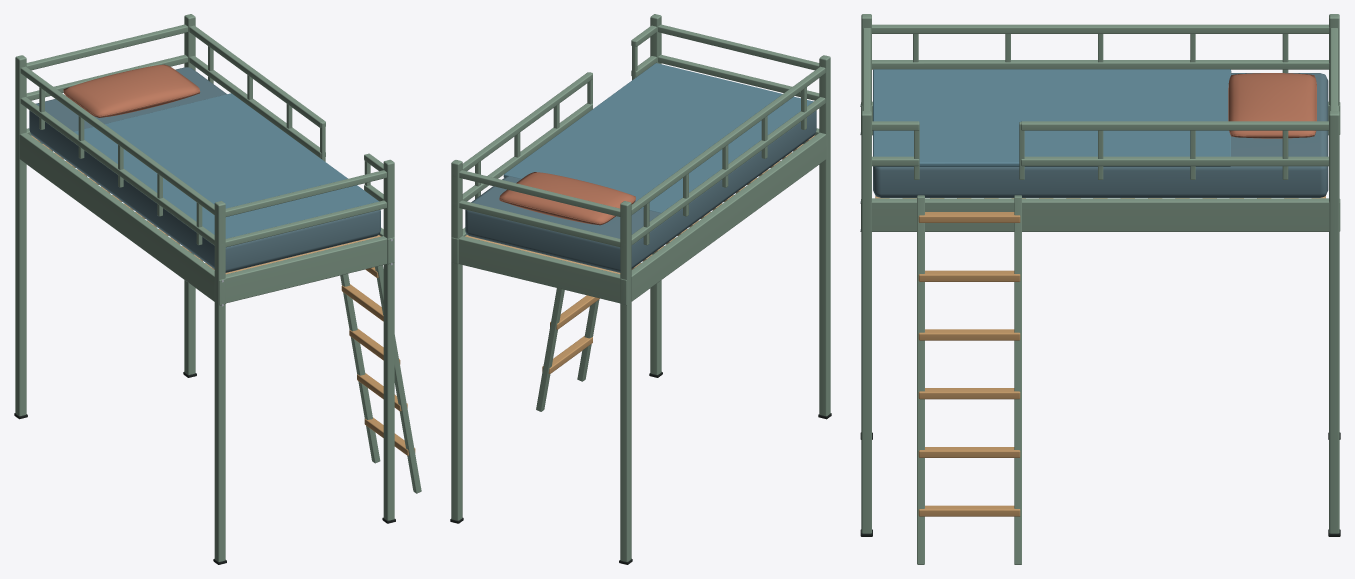
Rendered from loft-bed.glb.
The picture shows the model from 3 angles, left to right: view 1: azimuth 30°, elevation 25°; view 2: azimuth 150°, elevation 25°; view 3: azimuth 270°, elevation 25°; orthographic projection. The views are drawn at different scales.
Visible parts, largest first — view 1: loft-bed authored assembly; view 2: loft-bed authored assembly; view 3: loft-bed authored assembly.
Boxes of the visible parts, x1,y1,x2,y2 form: loft-bed authored assembly: (14,14,421,564); loft-bed authored assembly: (450,14,831,564); loft-bed authored assembly: (860,14,1340,564).
Size of the model in its own units: 1.35 by 2.04 by 2.1.
